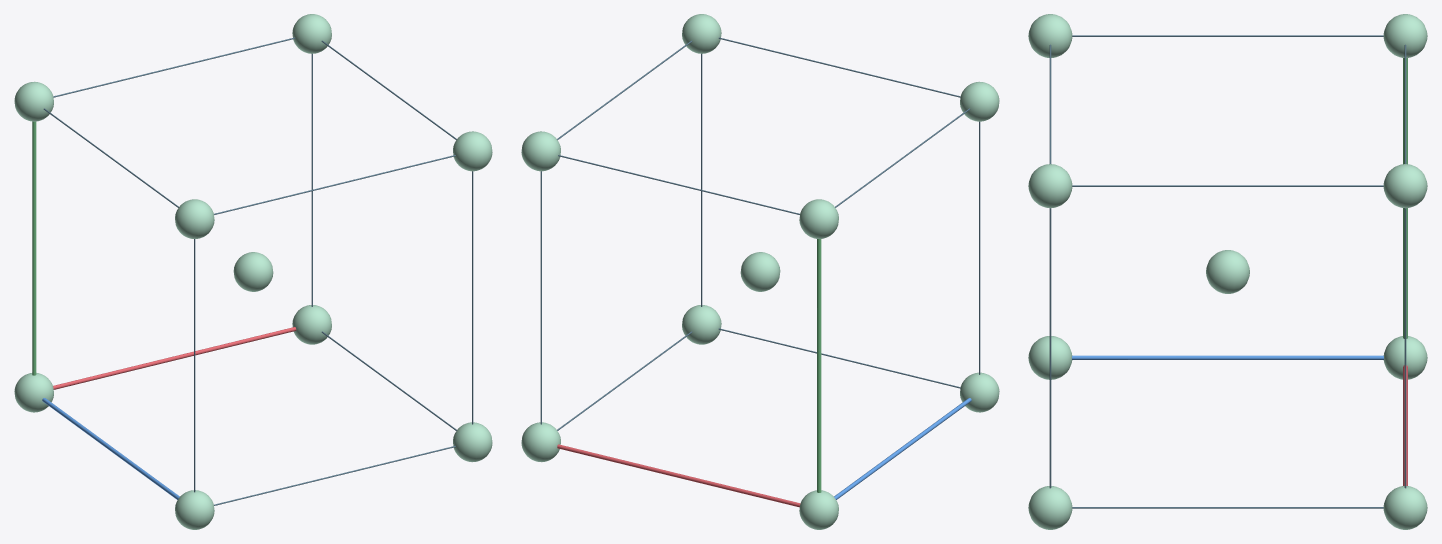
Rendered from nguyen-to-ra.glb.
3 renders of one model, left to right at view 1: azimuth 30°, elevation 25°; view 2: azimuth 150°, elevation 25°; view 3: azimuth 270°, elevation 25°, orthographic. The views are drawn at different scales.
Visible parts, largest first — view 1: Ra1 · Ra · 1 (×9), Ô mạng và các trục a, b, c; view 2: Ra1 · Ra · 1 (×9), Ô mạng và các trục a, b, c; view 3: Ra1 · Ra · 1 (×9), Ô mạng và các trục a, b, c.
Part boxes in pixels (x1,y1,x2,y2): Ra1 · Ra · 1 (×9): (14, 14, 492, 529); Ô mạng và các trục a, b, c: (32, 37, 473, 505); Ra1 · Ra · 1 (×9): (521, 14, 999, 529); Ô mạng và các trục a, b, c: (540, 37, 980, 507); Ra1 · Ra · 1 (×9): (1028, 14, 1427, 529); Ô mạng và các trục a, b, c: (1049, 35, 1407, 508).
Bounding box in the file's own units: 5.79 × 5.79 × 5.79.
